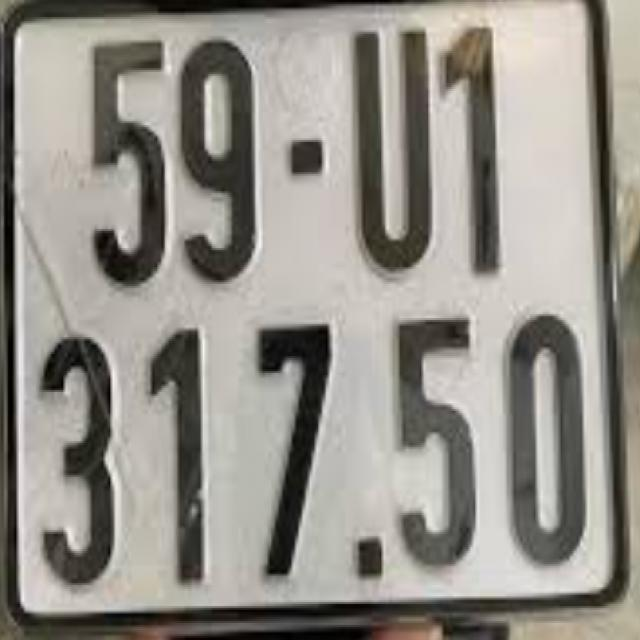0: (502, 305, 590, 572)
1: (437, 19, 518, 278), (142, 320, 219, 587)
3: (32, 328, 124, 590)
5: (385, 305, 483, 574), (84, 27, 170, 292)
7: (247, 311, 338, 583)
9: (174, 28, 264, 286)
U: (340, 23, 440, 278)
